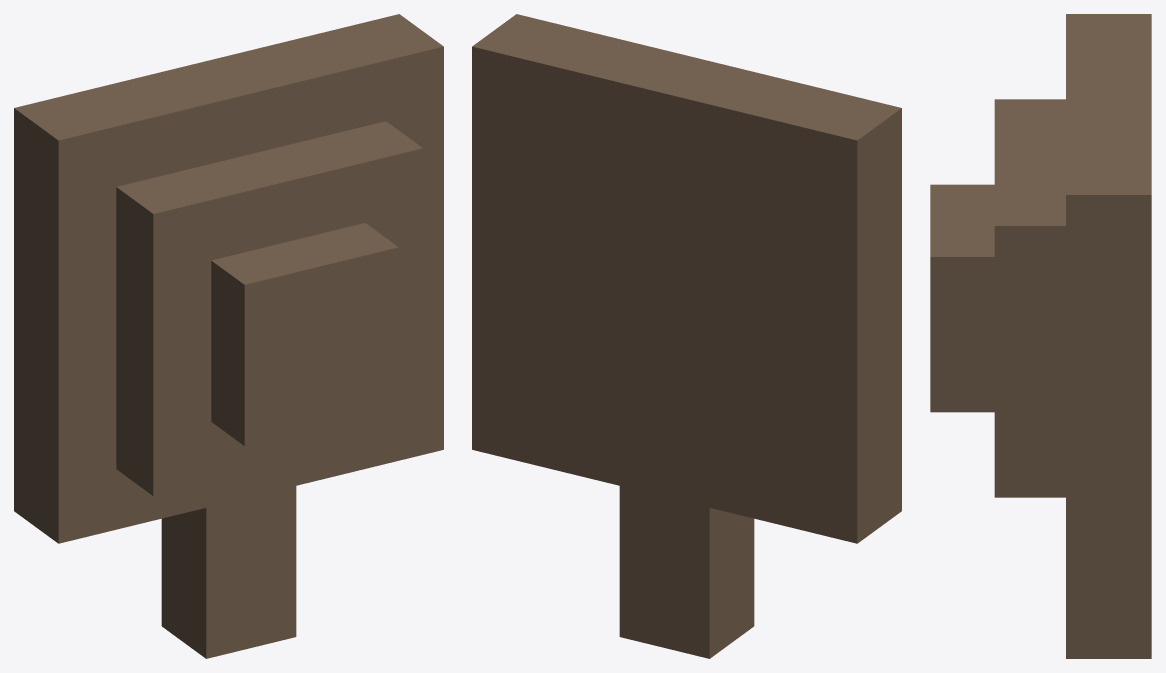
The model's file is SM_Ziggurat_Citadel.obj.
3 views of the same model, side by side, from view 1: azimuth 30°, elevation 25°; view 2: azimuth 150°, elevation 25°; view 3: azimuth 270°, elevation 25° (orthographic). The views are drawn at different scales.
Parts seen in each view (by area): view 1: SM_Ziggurat_Citadel; view 2: SM_Ziggurat_Citadel; view 3: SM_Ziggurat_Citadel.
Boxes of the visible parts, x1=… form: SM_Ziggurat_Citadel: x1=14, y1=14, x2=443, y2=658; SM_Ziggurat_Citadel: x1=472, y1=14, x2=901, y2=658; SM_Ziggurat_Citadel: x1=930, y1=14, x2=1151, y2=658.
Bounding box in the file's own units: 1200 × 1650 × 620.
Materials: 1 (1 with a texture image).
